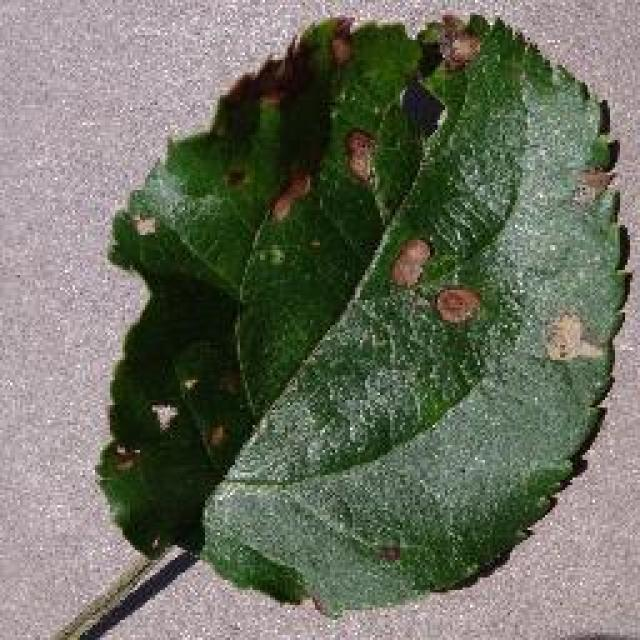apple scab disease: (92, 7, 632, 615)
